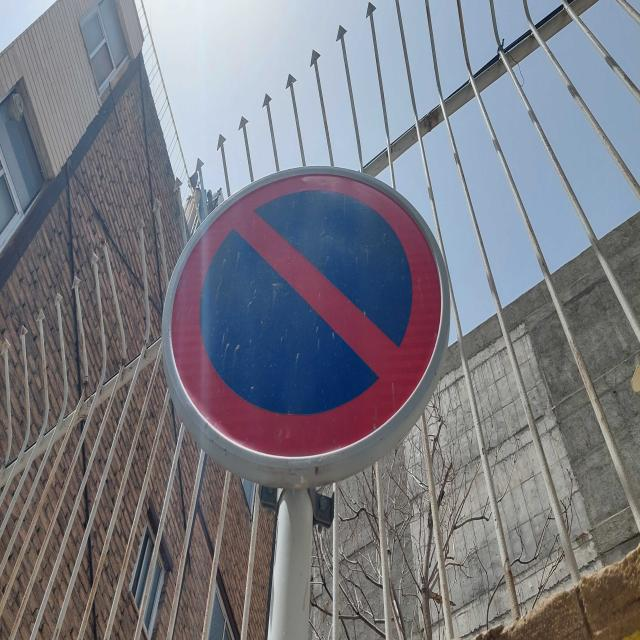forb_stopping: (160, 161, 452, 479)
